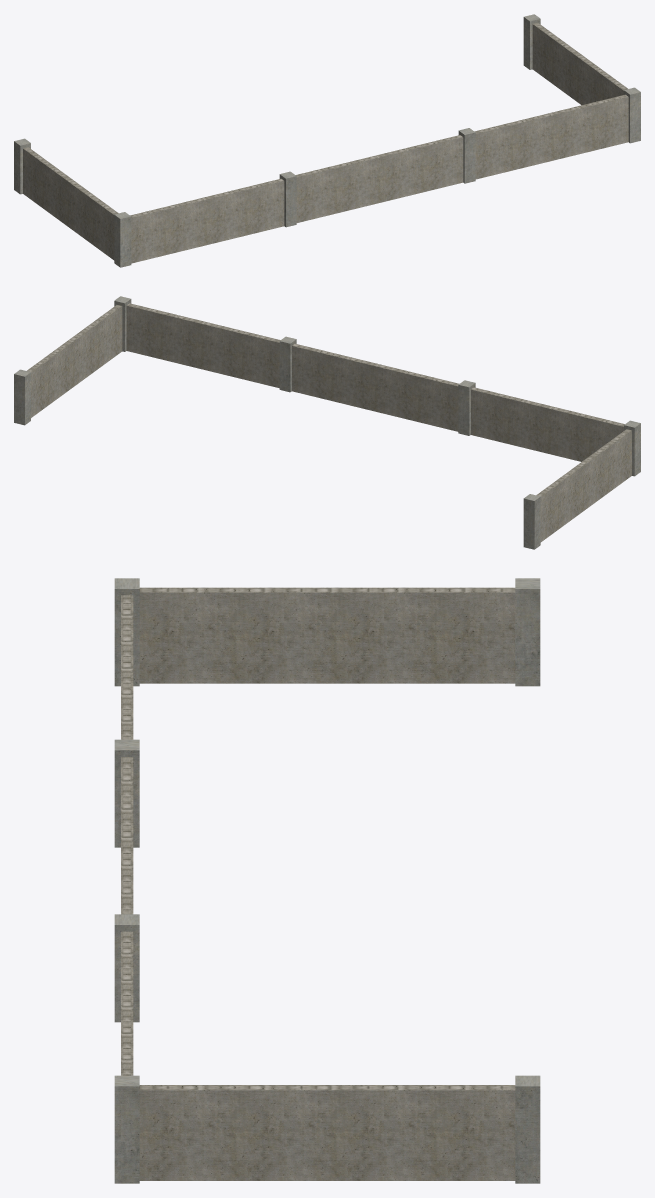
File: poi_all_corral_half_64x64_s04_l0.fbx
3 renders of one model, top to bottom at view 1: azimuth 30°, elevation 25°; view 2: azimuth 150°, elevation 25°; view 3: azimuth 270°, elevation 25°, orthographic. The views are drawn at different scales.
Visible parts, largest first — view 1: mesh_node; view 2: mesh_node; view 3: mesh_node.
Boxes of the visible parts, x1,y1,x2,y2 form: mesh_node: (14, 14, 640, 267); mesh_node: (14, 296, 640, 549); mesh_node: (114, 578, 540, 1183).
Size of the model in its own units: 48 by 4.29 by 17.
